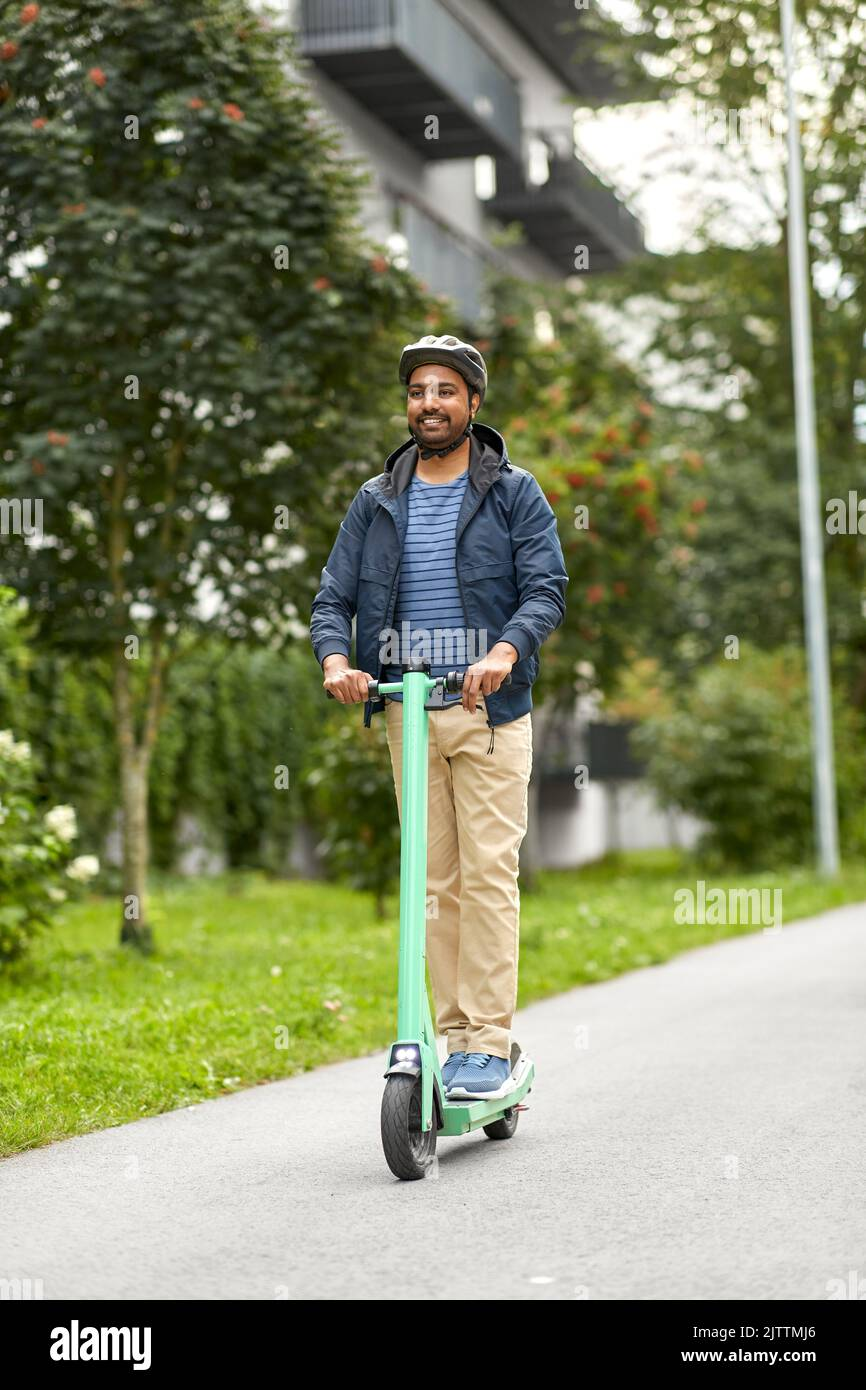helmet: (386, 337, 488, 467)
human: (318, 330, 538, 1115)
kickboard: (371, 1053, 540, 1181)
